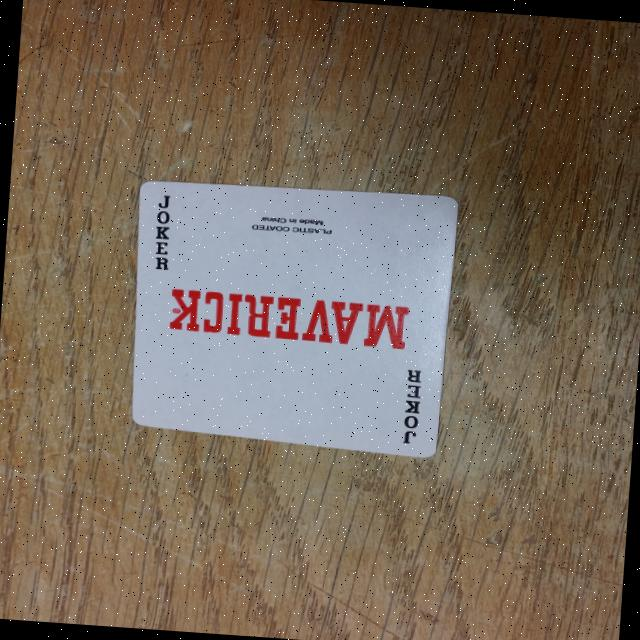J: (144, 189, 179, 275), (394, 362, 428, 449)
